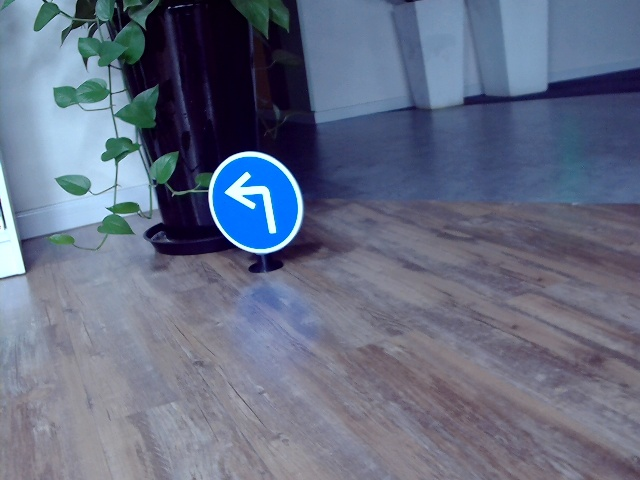turn_left: (224, 168, 282, 235)
